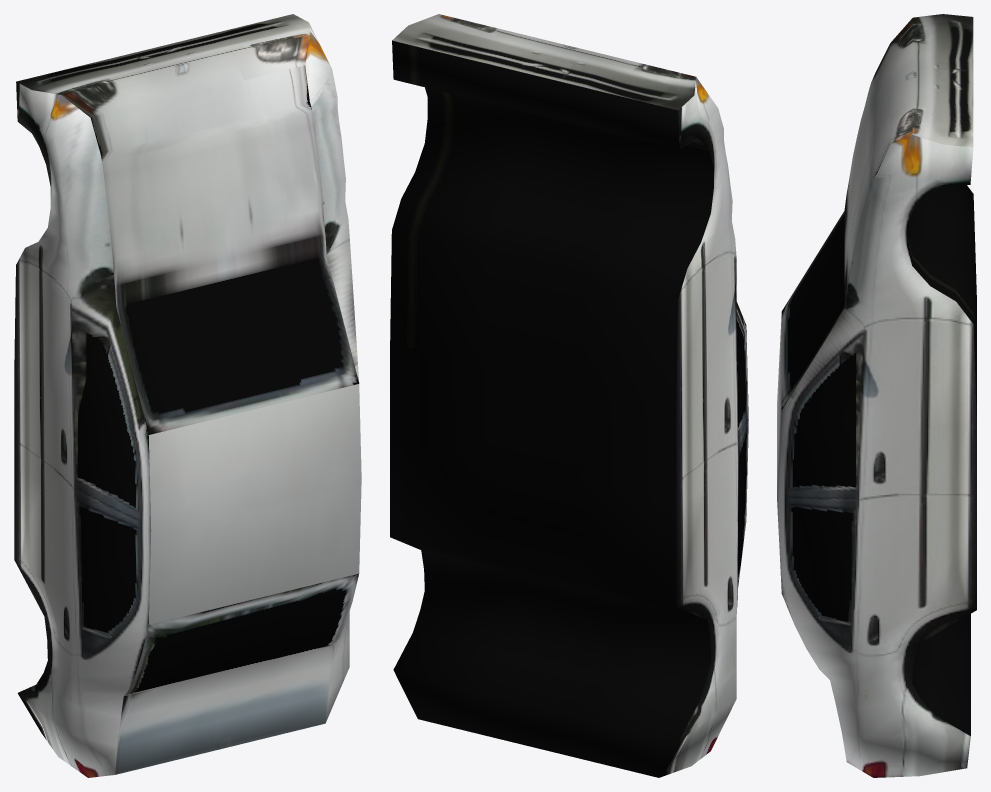
File: cartest.gltf
3 renders of one model, left to right at view 1: azimuth 30°, elevation 25°; view 2: azimuth 150°, elevation 25°; view 3: azimuth 270°, elevation 25°, orthographic. The views are drawn at different scales.
Visible parts, largest first — view 1: car_chasis; view 2: car_chasis; view 3: car_chasis.
Part boxes in pixels (x1,y1,x2,y2): car_chasis: (14, 14, 361, 777); car_chasis: (390, 14, 748, 777); car_chasis: (777, 14, 976, 777).
Size of the model in its own units: 0.7711 by 1.78 by 0.4989.
1 material, 1 textured.
